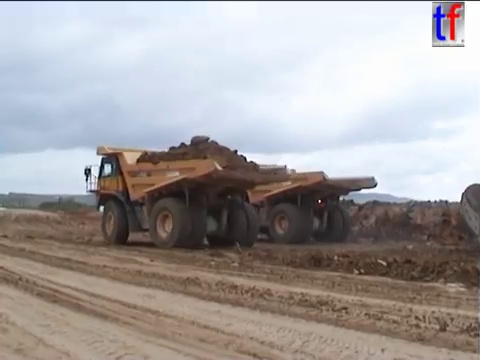excavator: (457, 181, 480, 239)
truck: (82, 143, 300, 251), (189, 152, 380, 247)
